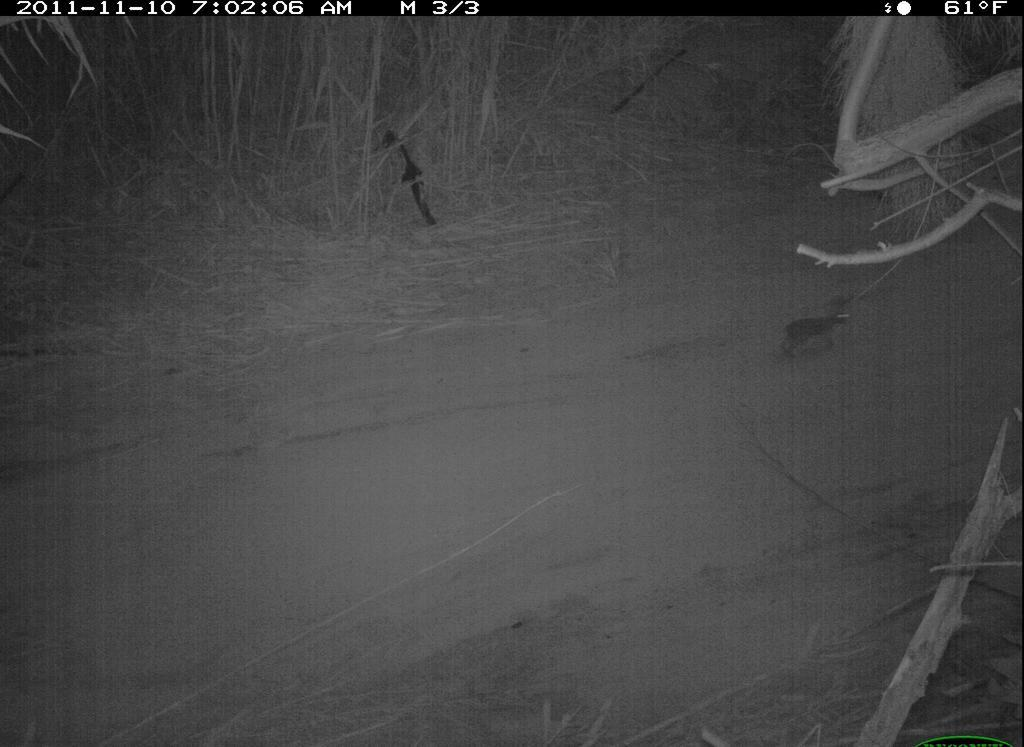rabbit: (763, 285, 872, 377)
